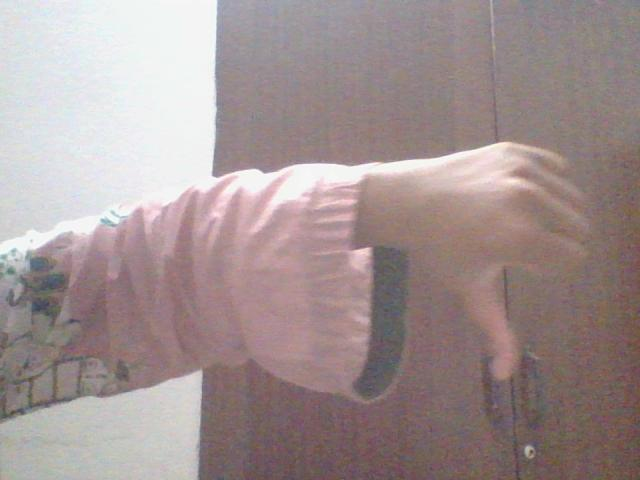thumbs-down: (409, 143, 603, 377)
